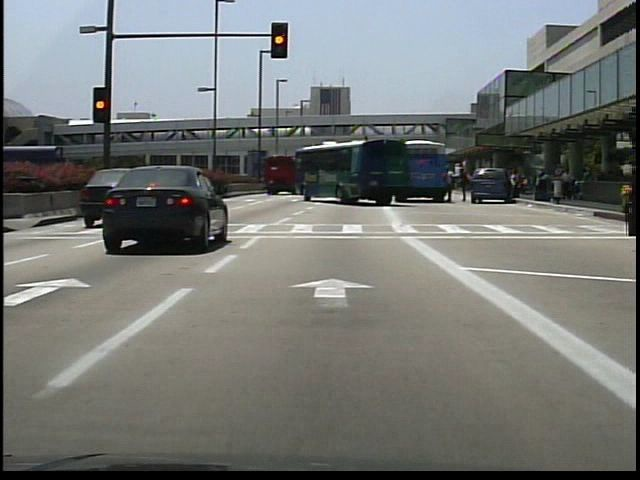person: (456, 161, 470, 204), (509, 168, 521, 202), (449, 165, 450, 202)
